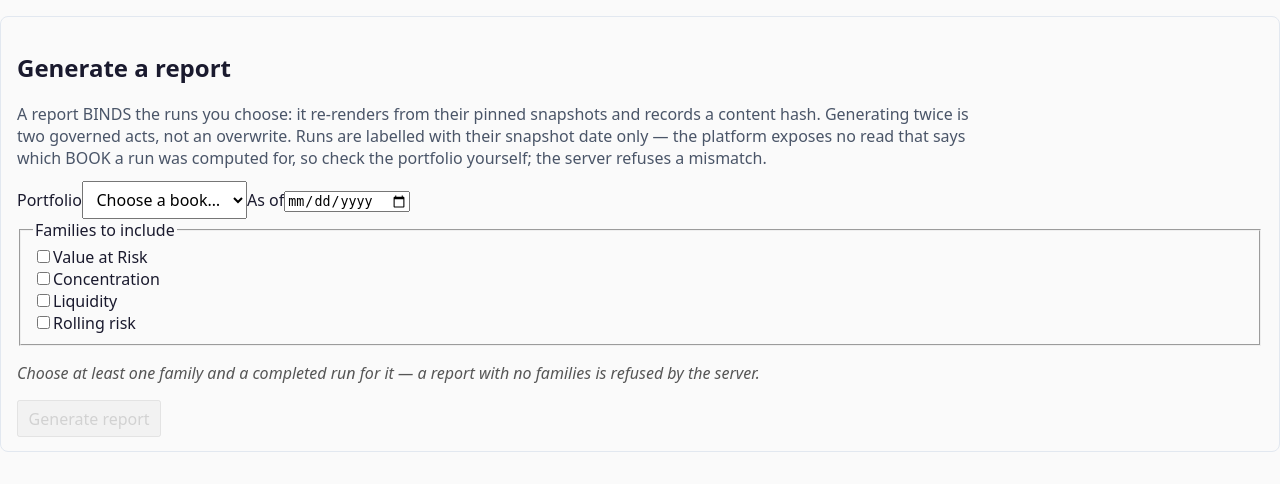
Test: GenerateReport — the ratified proof list › PROOF 1: a family's dropdown lists only ITS run type, from its own endpoint
Click the checkbox labelled "Value at Risk".
click(44, 257)  # box 37,250 -> 50,263
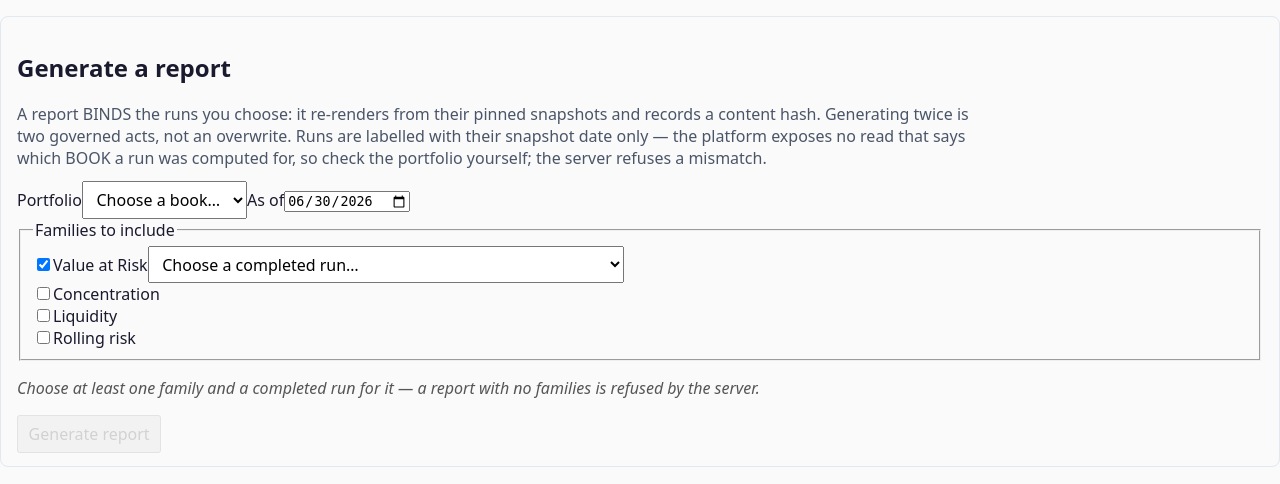
Now the dropdown named "Value at Risk run" is shown, box 148,246 -> 624,283
